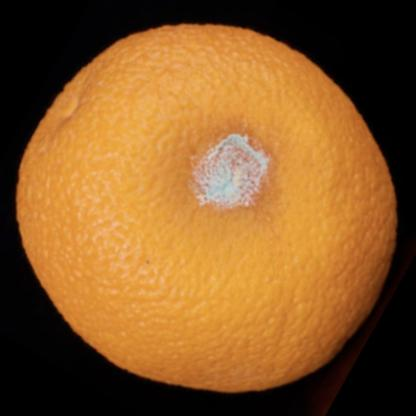rotten: (15, 23, 400, 394)
